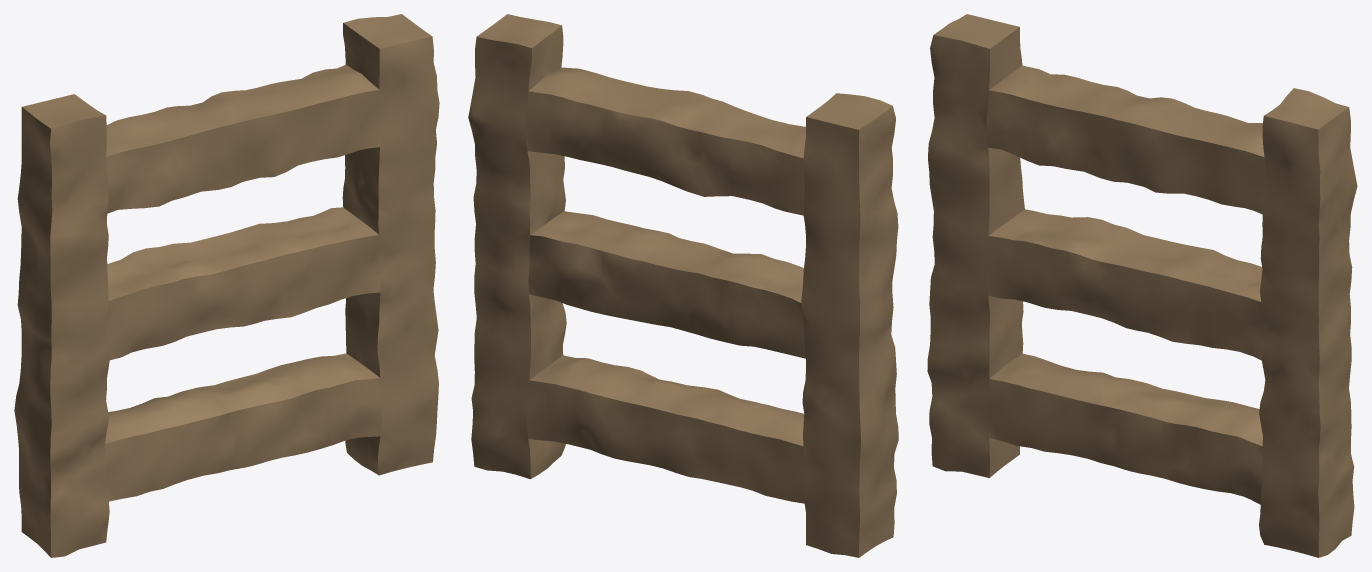
Rendered from Ladder.fbx.
3 renders of one model, left to right at view 1: azimuth 30°, elevation 25°; view 2: azimuth 150°, elevation 25°; view 3: azimuth 330°, elevation 25°, orthographic.
Parts seen in each view (by area): view 1: polySurface2; view 2: polySurface2; view 3: polySurface2.
Boxes of the visible parts, x1,y1,x2,y2 form: polySurface2: [14, 14, 439, 557]; polySurface2: [468, 14, 898, 557]; polySurface2: [927, 14, 1357, 557].
Size of the model in its own units: 4.83 by 5.08 by 0.8942.
